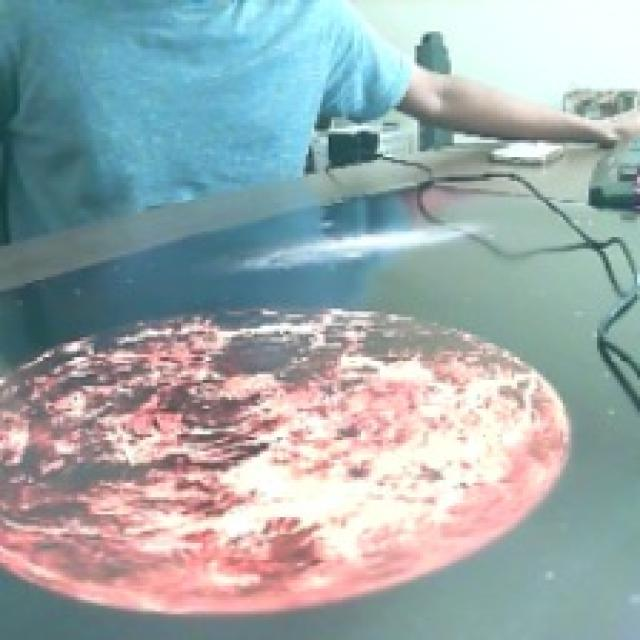Galaxy: (230, 220, 480, 278)
Sun: (0, 305, 571, 617)
